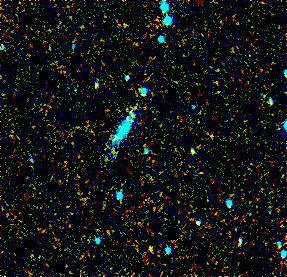star: (135, 231, 165, 261)
